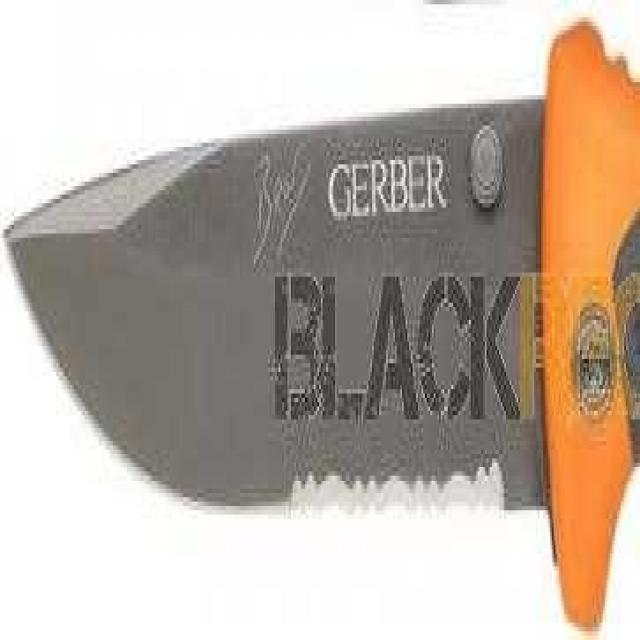Knife: (0, 6, 640, 630)
